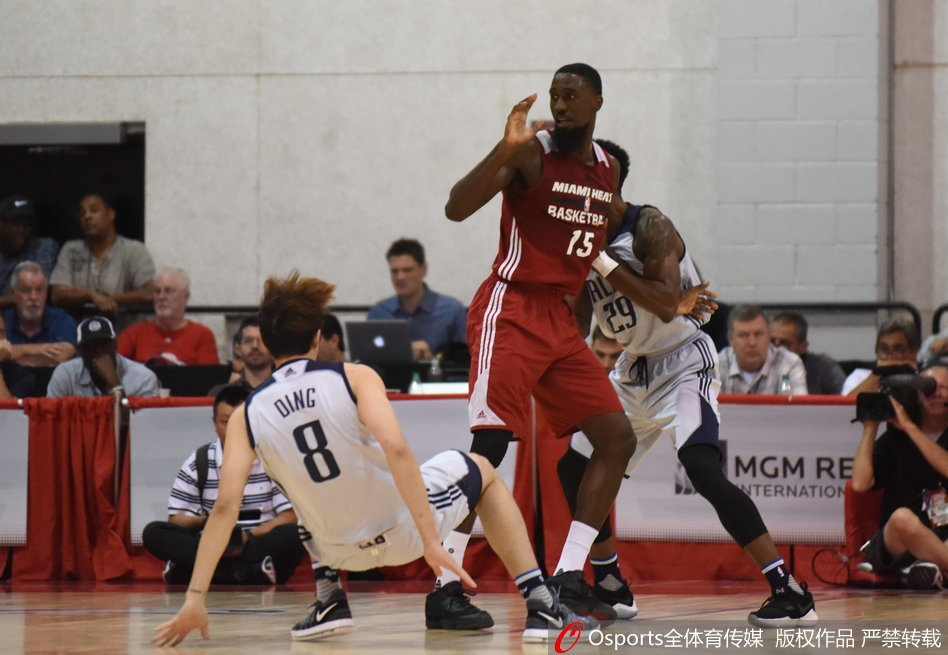10+: (1, 60, 948, 630)
down: (148, 267, 586, 654)
